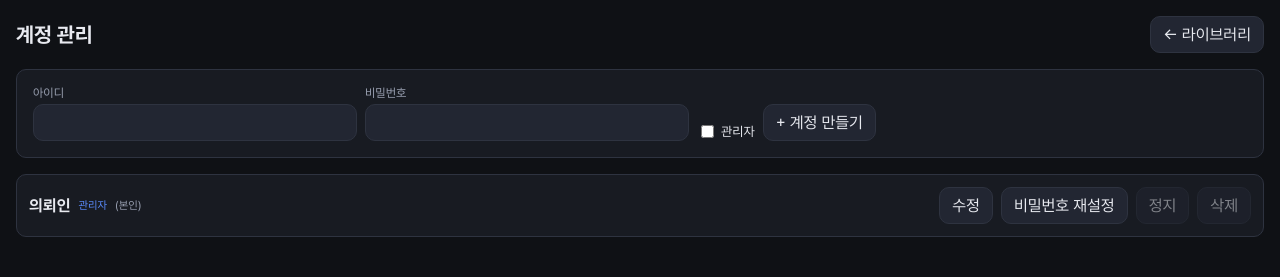
Test: AdminScreen › 계정 생성 실패 시 에러 문구를 보여준다
expect the text "의뢰인" is shown: met, box [29,196,70,215]
Type "중복" into the field labelled "아이디" at (195, 122), box [33,104,357,141]
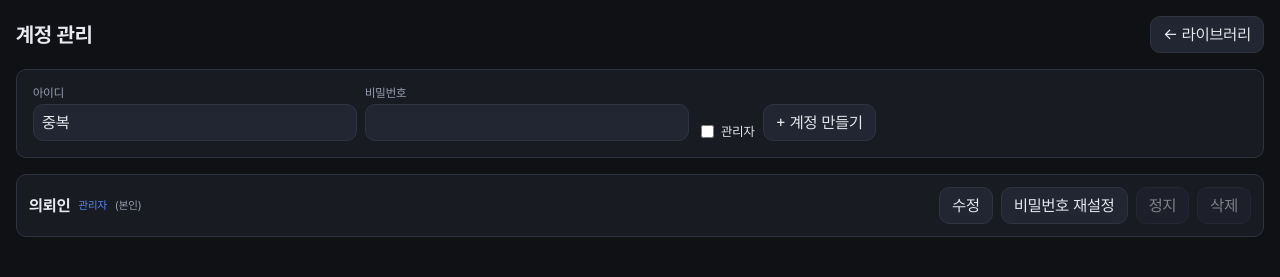
Type "pw1234" into the password field labelled "비밀번호" at (527, 122), box [365,104,689,141]
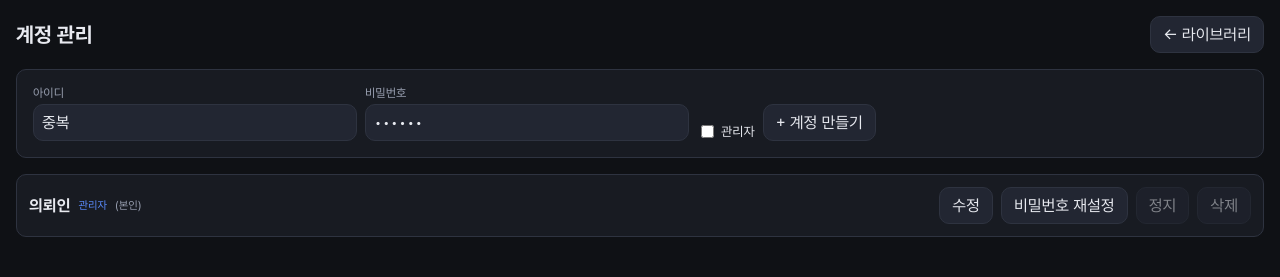
Click the button "+ 계정 만들기" at (819, 122), box [763,104,876,141]
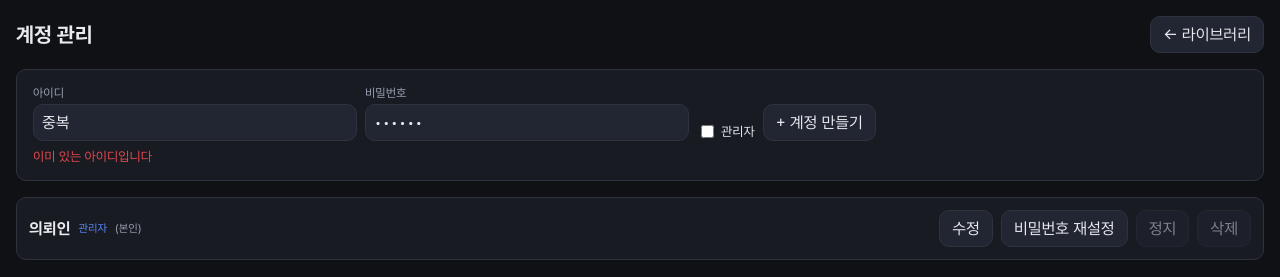
expect the text "이미 있는 아이디입니다" is shown: met, box [33,149,152,164]
